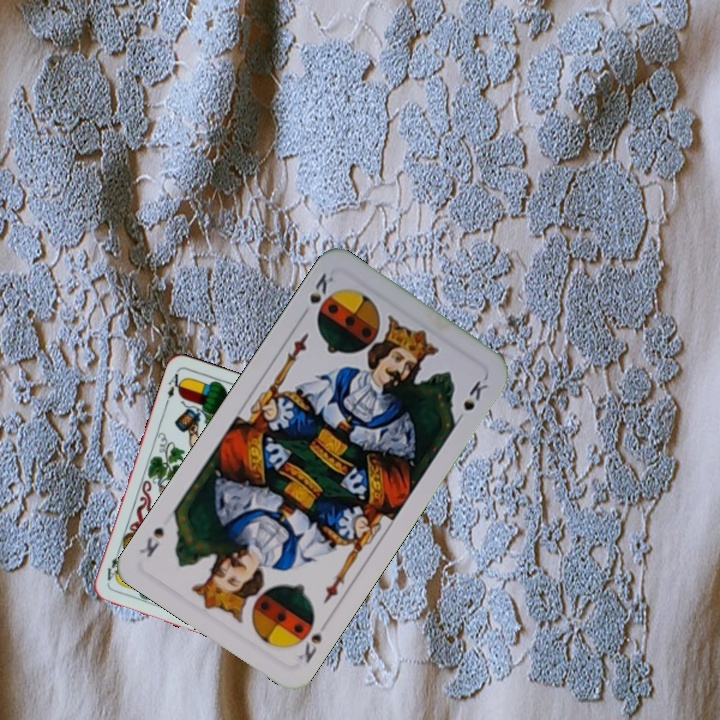EA: (162, 367, 186, 407)
SK: (291, 612, 325, 666), (305, 268, 337, 307)
